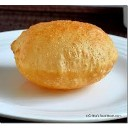poori: (12, 19, 117, 90)
